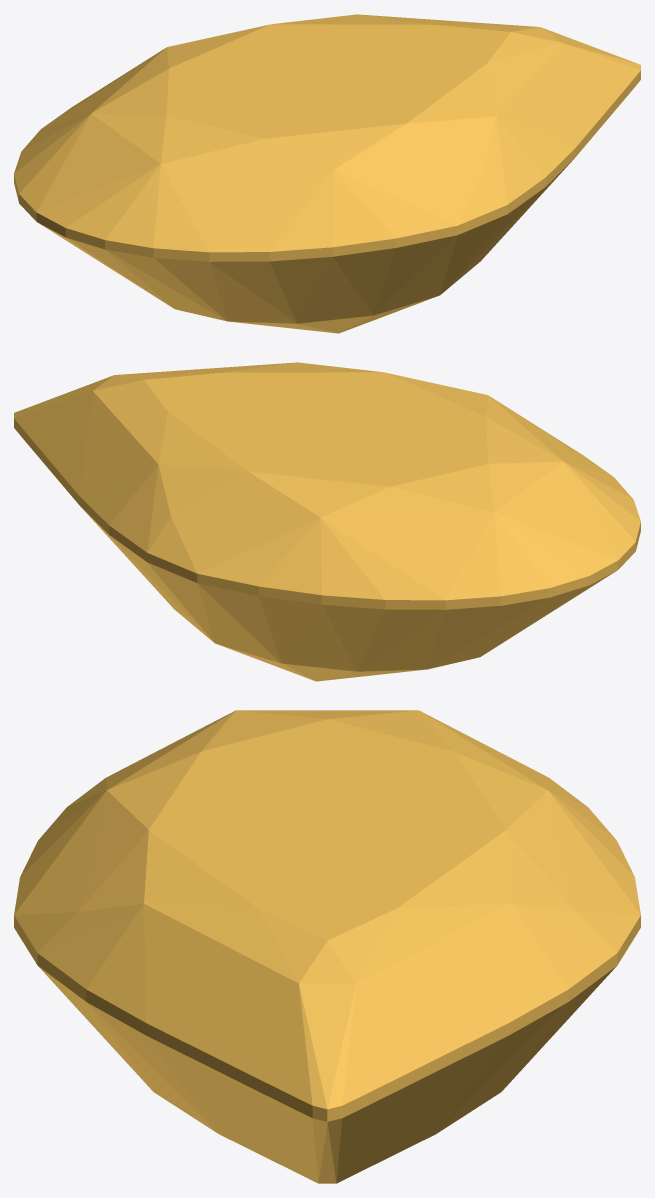
The model's file is jewelry.glb.
The picture shows the model from 3 angles, top to bottom: view 1: azimuth 30°, elevation 25°; view 2: azimuth 150°, elevation 25°; view 3: azimuth 270°, elevation 25°; orthographic projection. The views are drawn at different scales.
Parts seen in each view (by area): view 1: Gemstone Citrine; view 2: Gemstone Citrine; view 3: Gemstone Citrine.
Boxes of the visible parts, x1,y1,x2,y2 form: Gemstone Citrine: [14, 14, 640, 333]; Gemstone Citrine: [14, 362, 640, 681]; Gemstone Citrine: [14, 710, 640, 1183].
Bounding box in the file's own units: 2.2 × 0.903 × 1.5.
